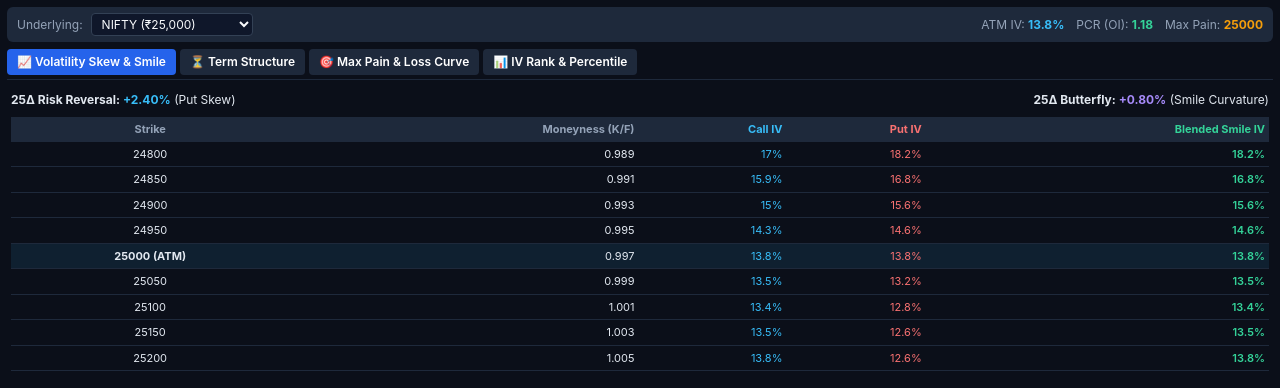
Test: OptionsAnalyticsPanel Component › switches to Term Structure tab and displays regime and points
What coordinates should you click on to do the following:
click the button "⏳ Term Structure"
I would click on:
 (243, 62)
Its box is [180,49,305,75].
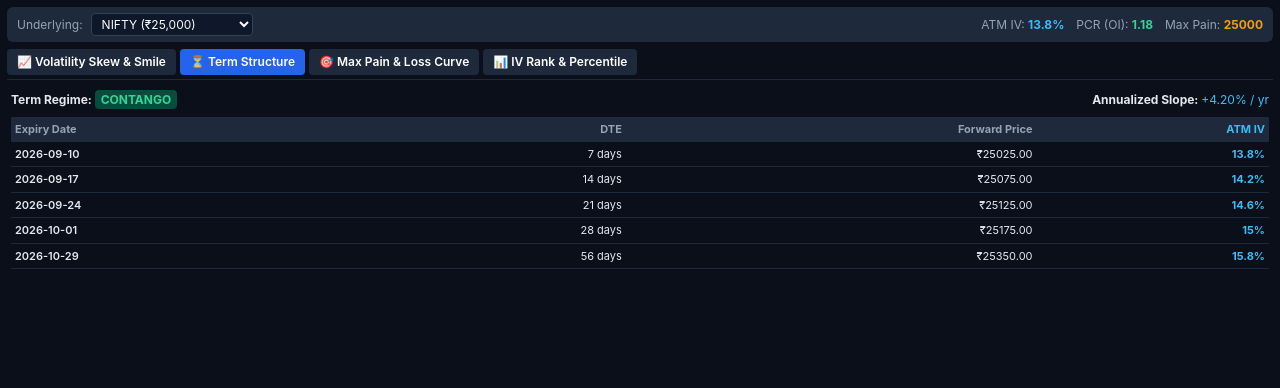
Check: the element with test id "tab-term" is shown, box [11,91,1269,269]
Check: the text "CONTANGO" is shown, box [95,90,177,109]
Check: the text "2026-09-10" is shown, box [11,142,380,166]
